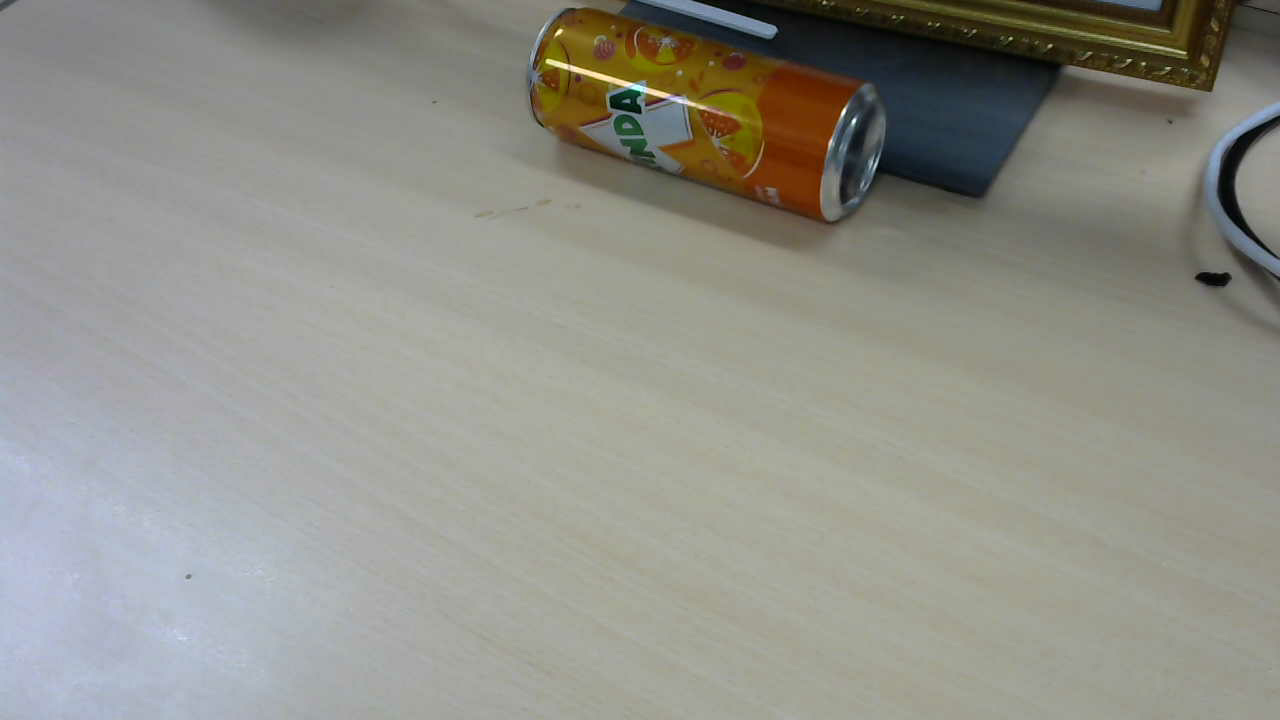Mirinda: (532, 12, 891, 229)
